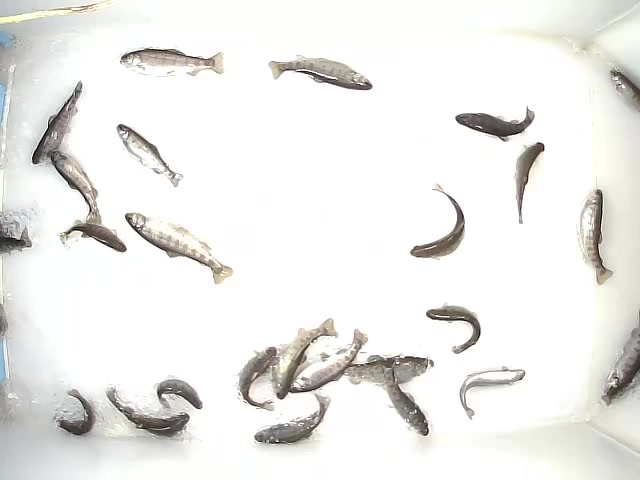fish: (125, 209, 236, 287), (271, 317, 339, 401), (289, 325, 369, 394), (113, 122, 185, 188), (30, 81, 84, 167), (49, 147, 105, 228), (105, 387, 192, 439), (408, 183, 466, 259), (252, 389, 332, 444), (267, 53, 374, 91), (576, 186, 616, 285), (380, 364, 431, 438), (117, 46, 228, 78), (458, 367, 525, 420), (452, 105, 538, 143), (511, 140, 548, 227), (335, 353, 431, 386), (235, 343, 279, 413), (421, 303, 482, 353), (59, 220, 131, 255), (56, 389, 96, 437), (154, 375, 204, 411)
